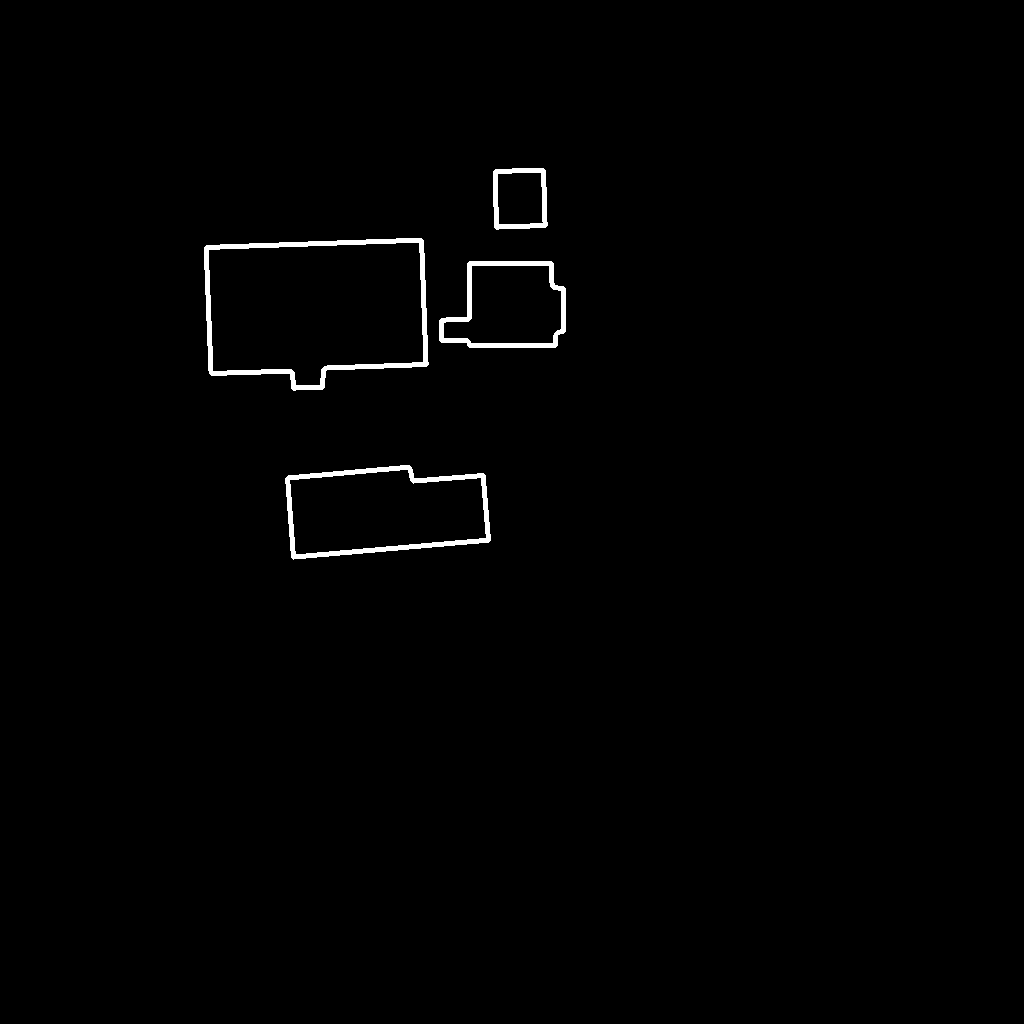building: (206, 240, 427, 389), (287, 467, 490, 558), (441, 263, 564, 346), (495, 170, 546, 228)
